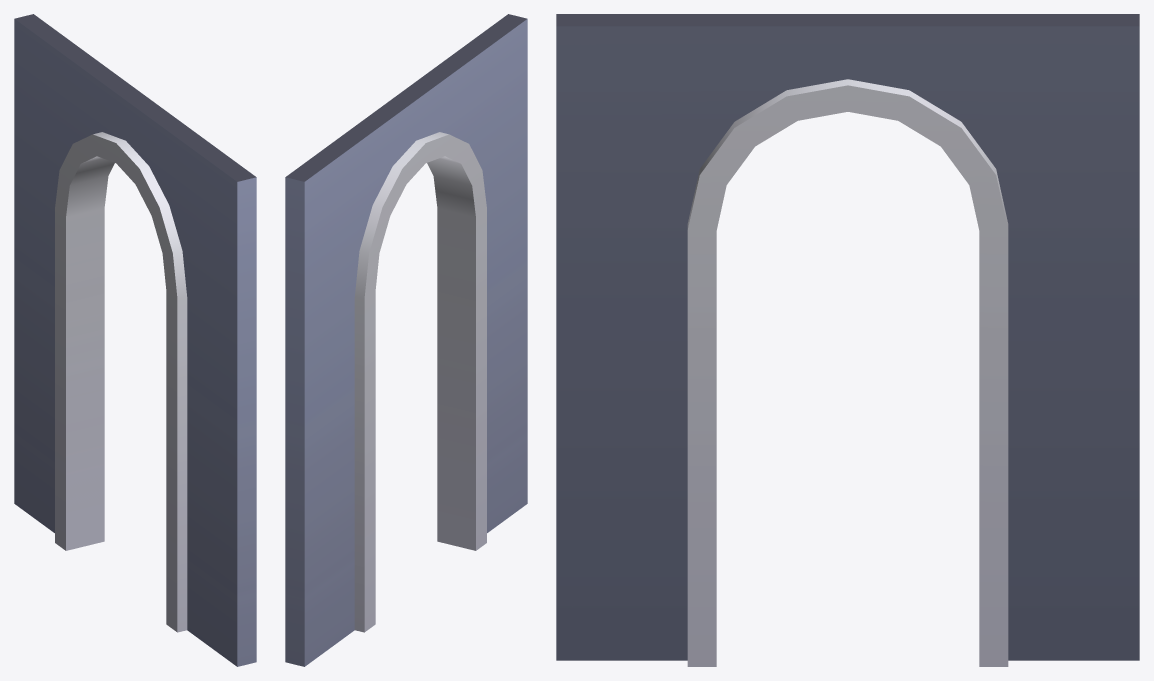
Rendered from kenney-building-wall-doorway-round.glb.
3 views of the same model, side by side, from view 1: azimuth 30°, elevation 25°; view 2: azimuth 150°, elevation 25°; view 3: azimuth 270°, elevation 25° (orthographic). The views are drawn at different scales.
Visible parts, largest first — view 1: wall-doorway-round; view 2: wall-doorway-round; view 3: wall-doorway-round.
Boxes of the visible parts, left/top/right/bottom form: wall-doorway-round: left=14, top=14, right=256, bottom=666; wall-doorway-round: left=285, top=14, right=527, bottom=666; wall-doorway-round: left=556, top=14, right=1139, bottom=666.
Size of the model in its own units: 0.2001 by 2.4 by 2.
Materials: 1 (1 with a texture image).
